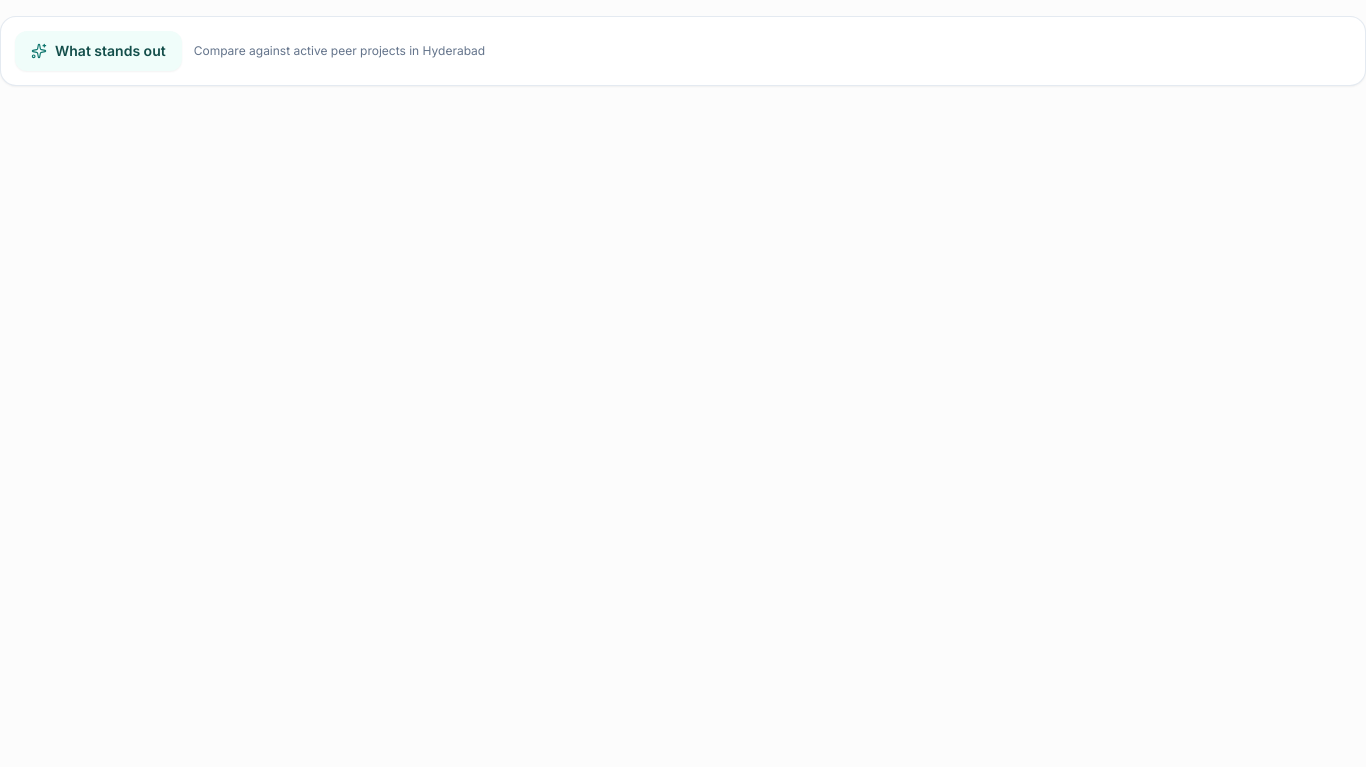
Scenario: StandoutAIAnalysis Component › 3. In demo mode after 1.5s: renders complete Standout card with signature, standouts, worth weighing, and seller toggle
Click the button "What stands out".
click(98, 51)  # box [15,31,182,71]
Wait 1500 ms
(page scrolled)
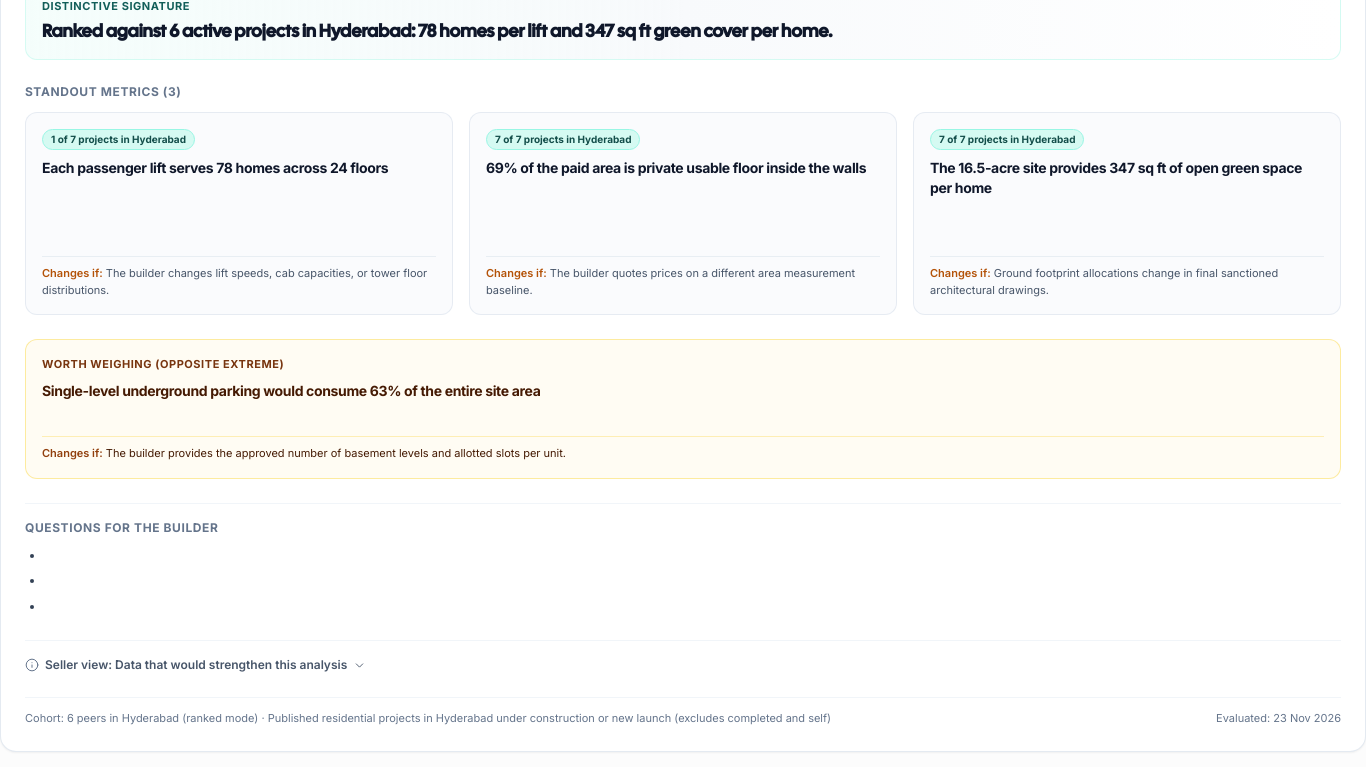
expect the text "Distinctive signature" is shown: met, box [42,0,190,13]
expect the text "Ranked against 6 active projects in Hyderabad" is shown: met, box [42,18,832,42]
expect the text "STANDOUT METRICS (3)" is shown: met, box [25,84,182,100]
Click the button "Seller view: Data that would strengthen this analysis".
click(196, 665)  # box [25,657,366,673]
(page scrolled)
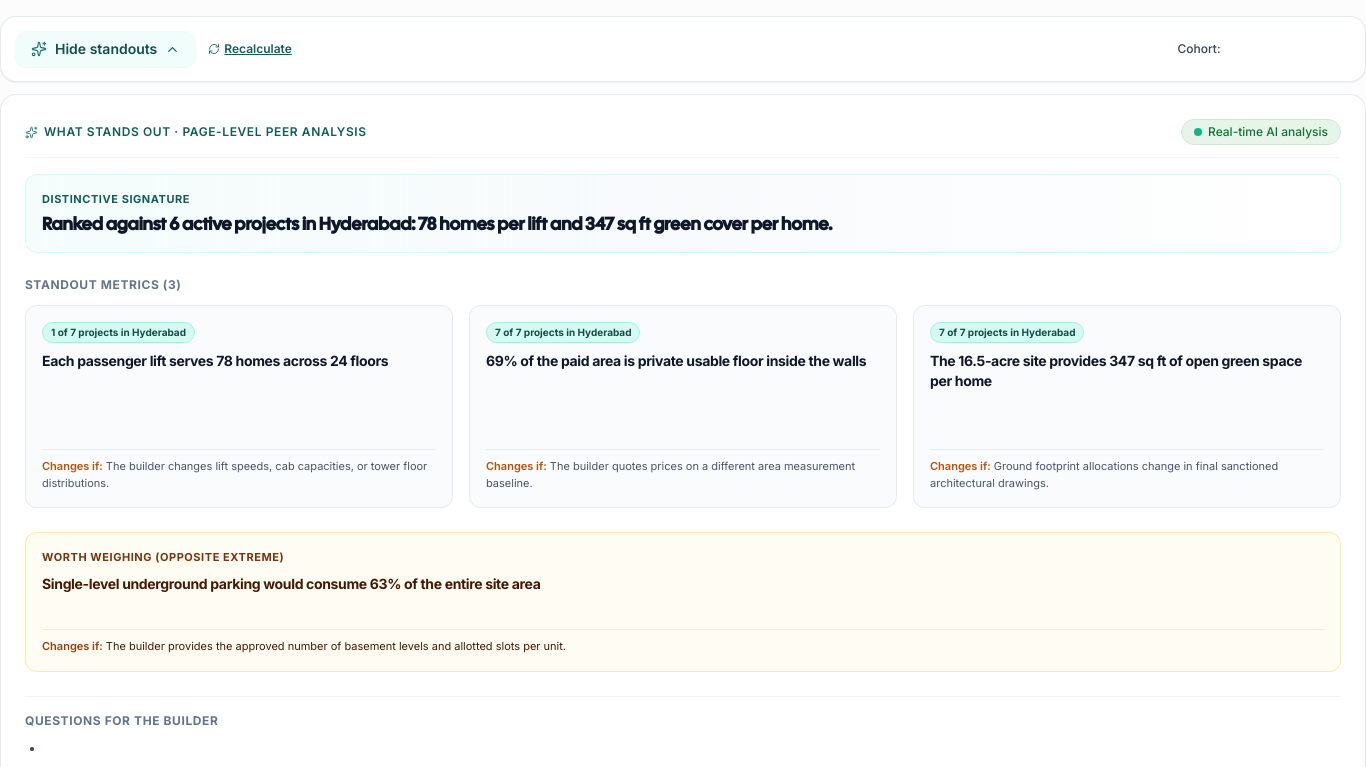
Toggle collapse
Click the button "Hide standouts".
click(106, 49)  # box [15,31,196,67]
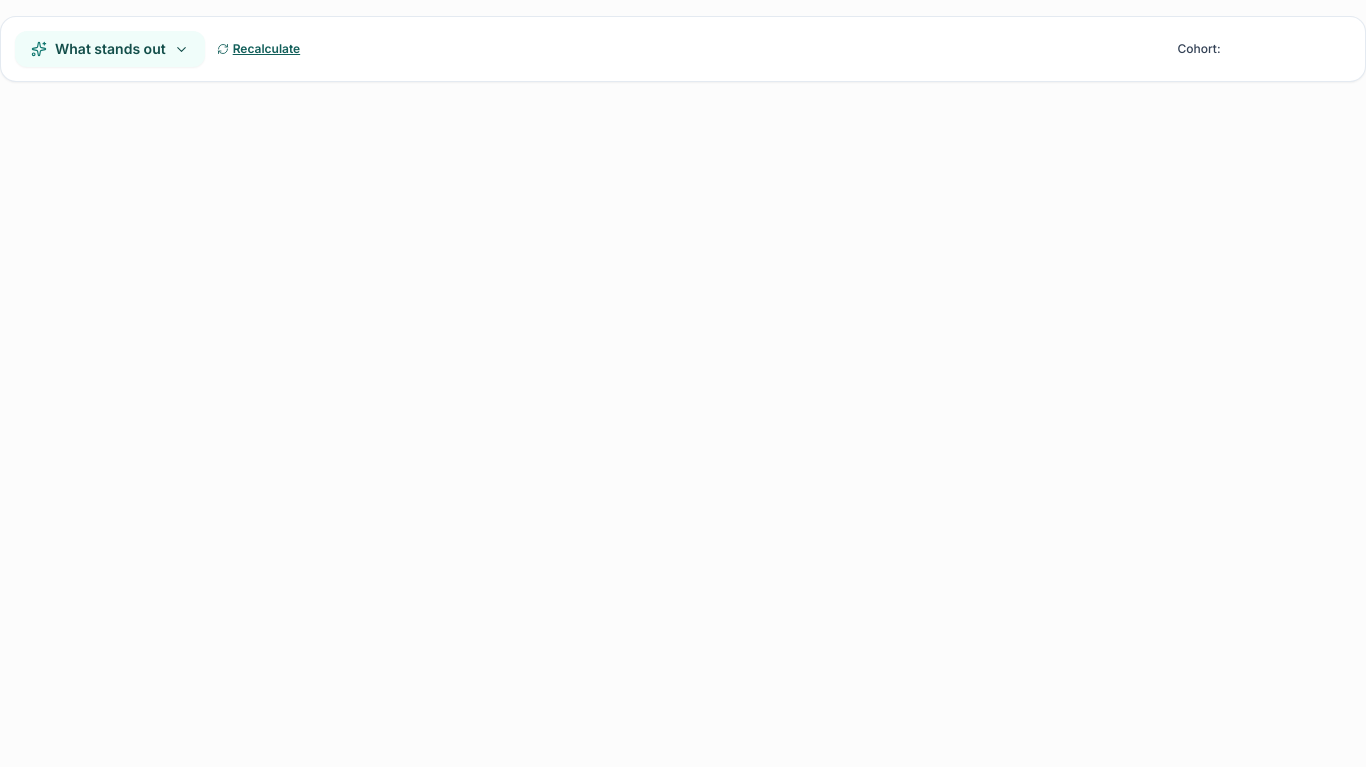
expect the text "Distinctive signature" is gone: met
